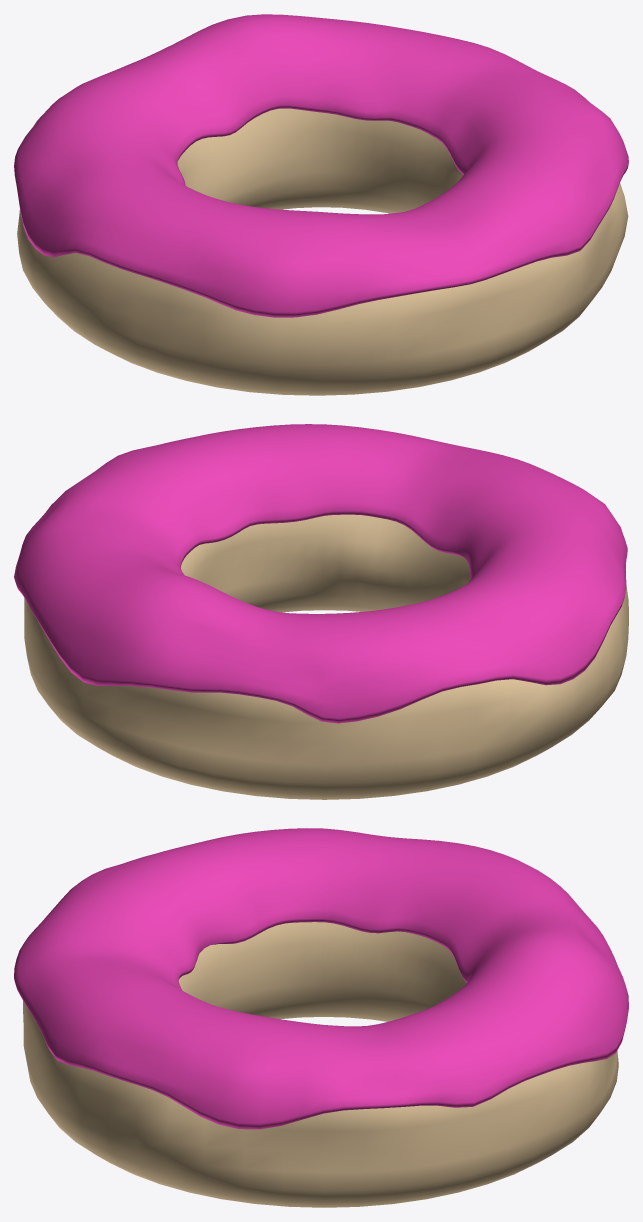
File: donut.gltf
3 renders of one model, top to bottom at view 1: azimuth 30°, elevation 25°; view 2: azimuth 150°, elevation 25°; view 3: azimuth 270°, elevation 25°, orthographic.
Parts seen in each view (by area): view 1: Icing, Donut; view 2: Icing, Donut; view 3: Icing, Donut.
Part boxes in pixels (x1,y1,x2,y2): Icing: (14,14,628,317); Donut: (17,108,628,395); Icing: (14,424,627,723); Donut: (24,514,628,799); Icing: (14,828,628,1129); Donut: (23,922,618,1207).
Size of the model in its own units: 0.1373 by 0.045 by 0.1346.
